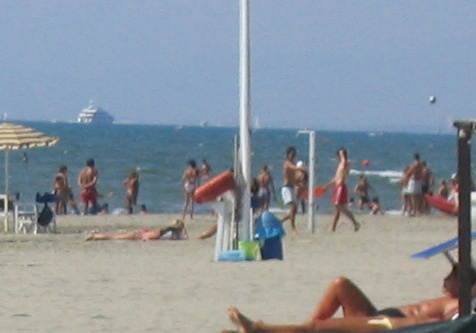person: (329, 149, 359, 231)
